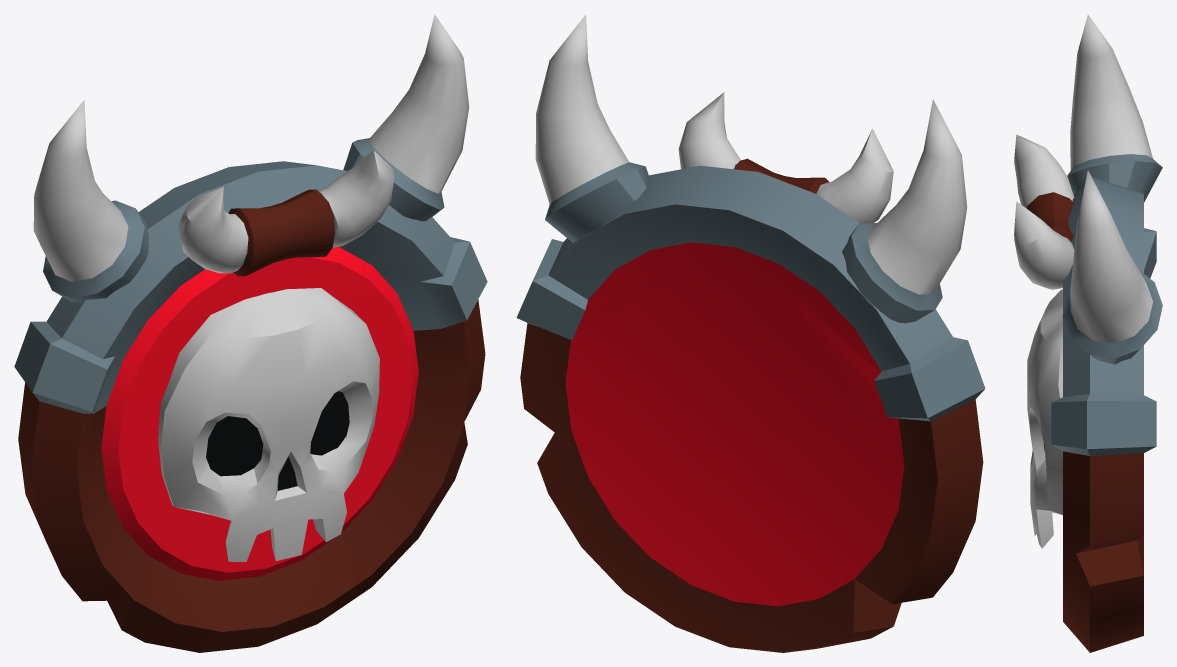
File: orc_shield.obj
3 renders of one model, left to right at view 1: azimuth 30°, elevation 25°; view 2: azimuth 150°, elevation 25°; view 3: azimuth 270°, elevation 25°, orthographic. The views are drawn at different scales.
Visible parts, largest first — view 1: orc_shield_Cube.4118; view 2: orc_shield_Cube.4118; view 3: orc_shield_Cube.4118.
Part boxes in pixels (x1,y1,x2,y2): orc_shield_Cube.4118: (14,14,487,652); orc_shield_Cube.4118: (516,14,985,652); orc_shield_Cube.4118: (1014,14,1162,652).
Size of the model in its own units: 0.6937 by 0.8608 by 0.2151.
